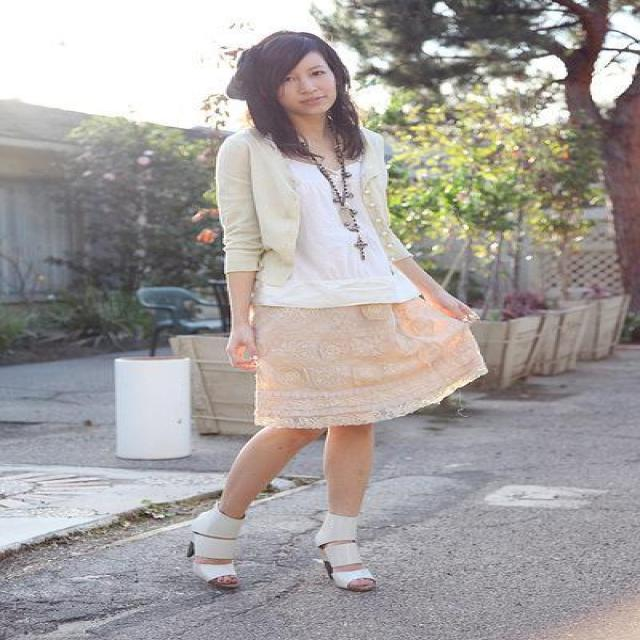shirt: (212, 120, 422, 307)
shoe: (194, 561, 235, 581)
skirt: (249, 296, 486, 442)
